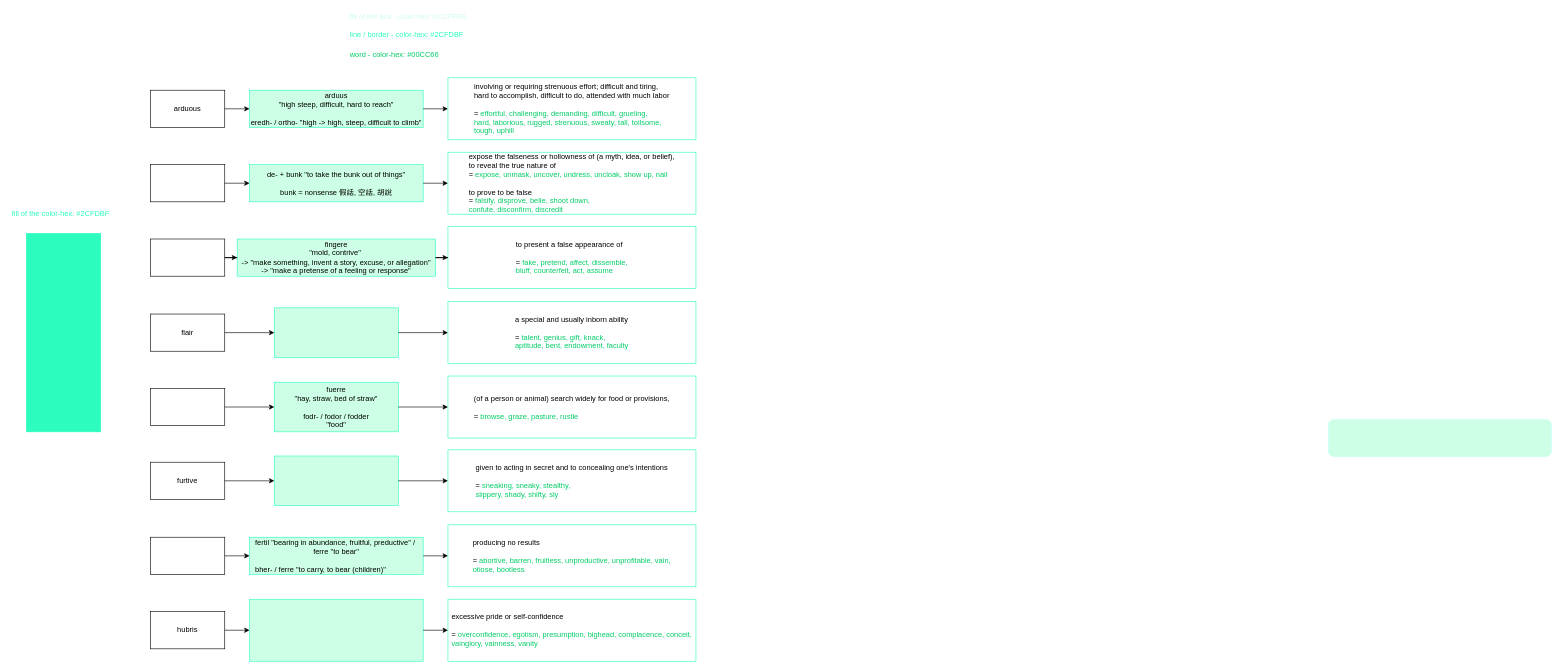
This 1562x672 diagram has some shape labels left out. Each missing label, with the box of its shape:
debunk: (150, 164, 225, 202)
feign: (150, 238, 225, 276)
forage: (150, 388, 225, 426)
fragrare "smell sweet, fragrant ": (274, 307, 398, 357)
furtif- / furtum "theft": (274, 455, 398, 506)
futile: (150, 537, 225, 574)
hybirs "wanton violence, insolence, outrage" wanton " 沒有注意, 無節制的，過分的，恣意的": (249, 599, 423, 661)
log transformation: (1328, 419, 1552, 457)
p.25 arduous debunk feign flair forage furtive futile hubris: (26, 233, 101, 432)
